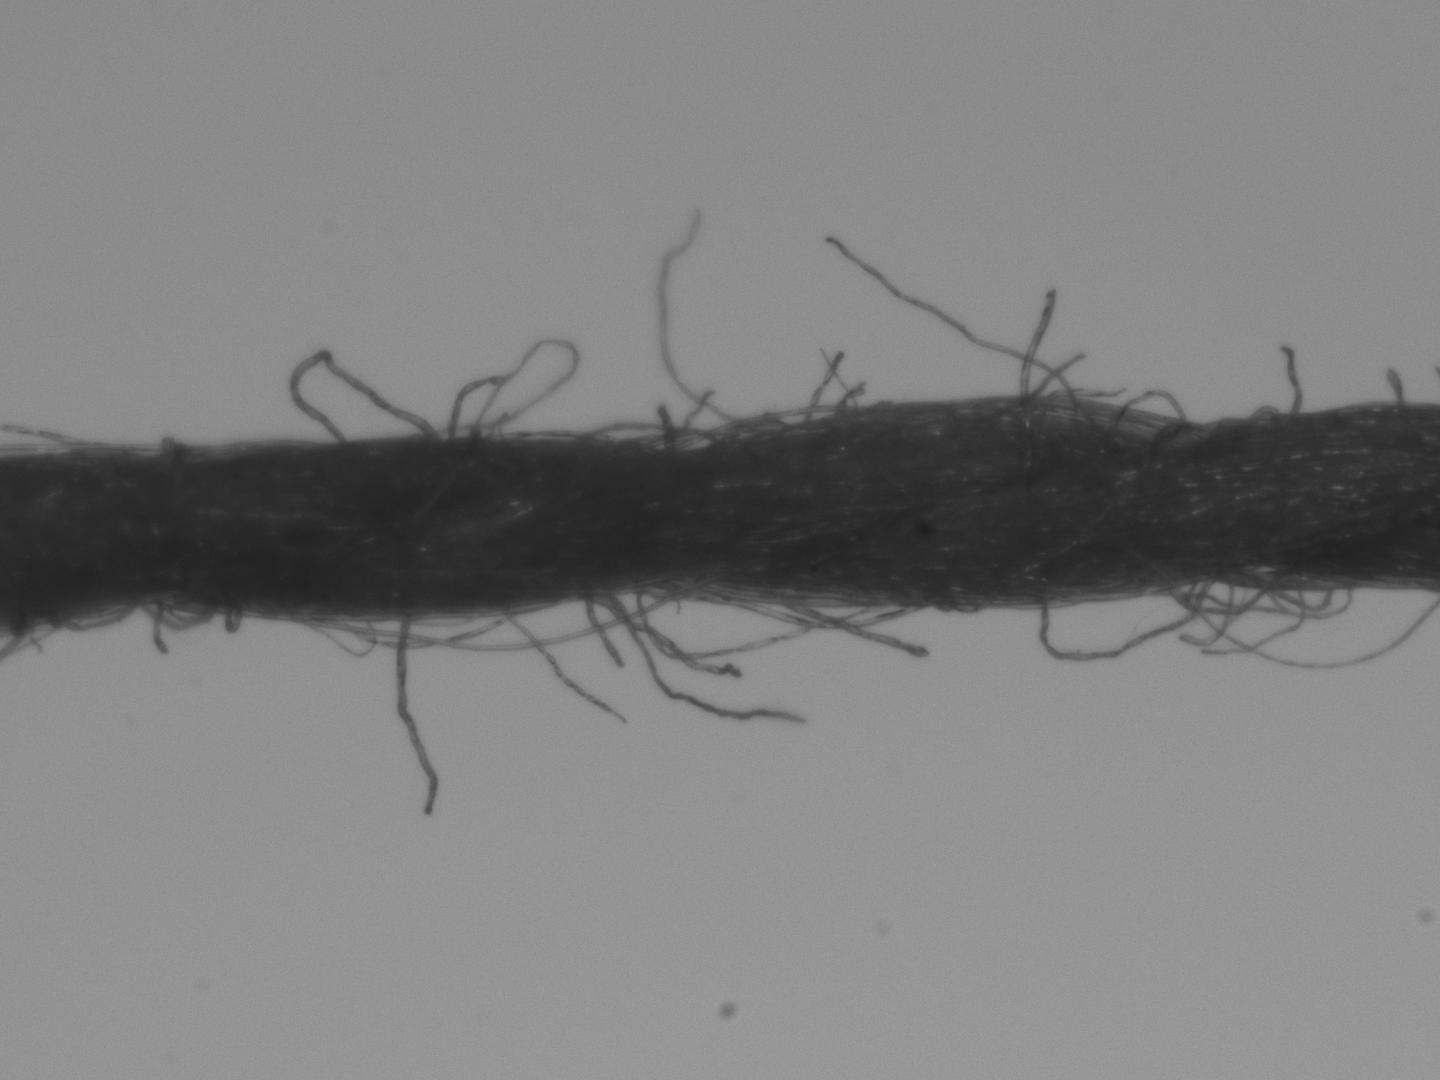loop_fiber: (319, 584, 670, 652), (1037, 573, 1208, 664), (291, 353, 433, 447), (688, 591, 930, 628), (1203, 572, 1348, 615), (712, 408, 856, 433), (578, 424, 713, 448), (1113, 386, 1184, 422), (134, 601, 213, 630), (46, 604, 122, 632)
protruding_fiber: (828, 234, 1065, 395), (494, 611, 621, 720), (396, 615, 437, 810), (1015, 292, 1056, 397), (581, 593, 621, 672), (1282, 346, 1302, 414)
